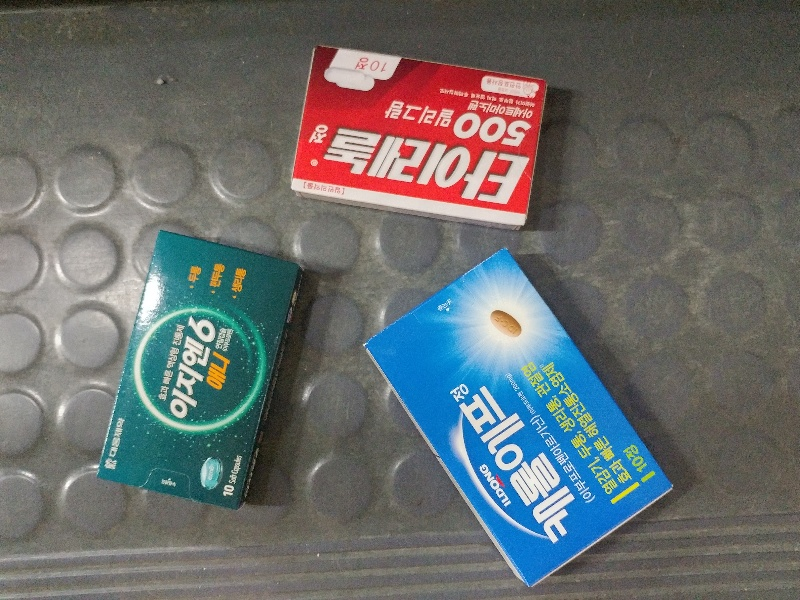carolF: (365, 252, 675, 587)
ezn: (97, 232, 301, 510)
tylenol: (292, 46, 550, 227)
